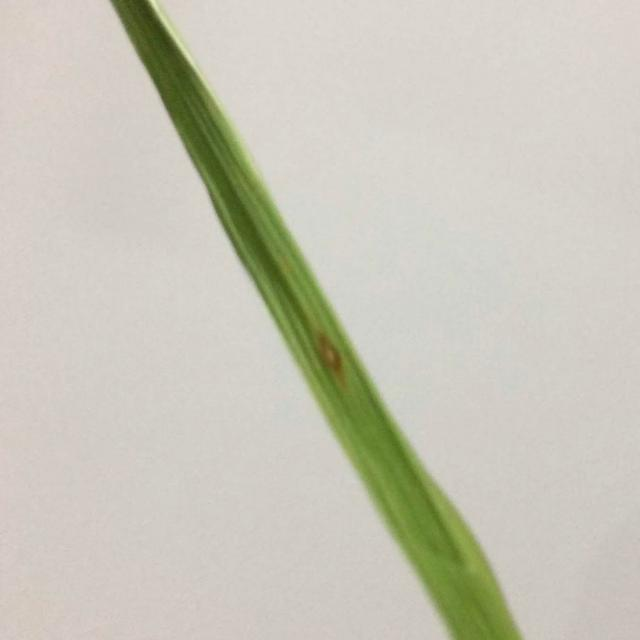Blast: (318, 340, 346, 378)
